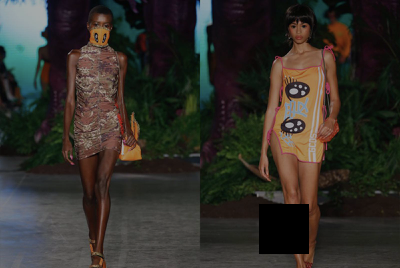with_mask: (89, 21, 112, 44)
without_mask: (289, 21, 311, 44)
